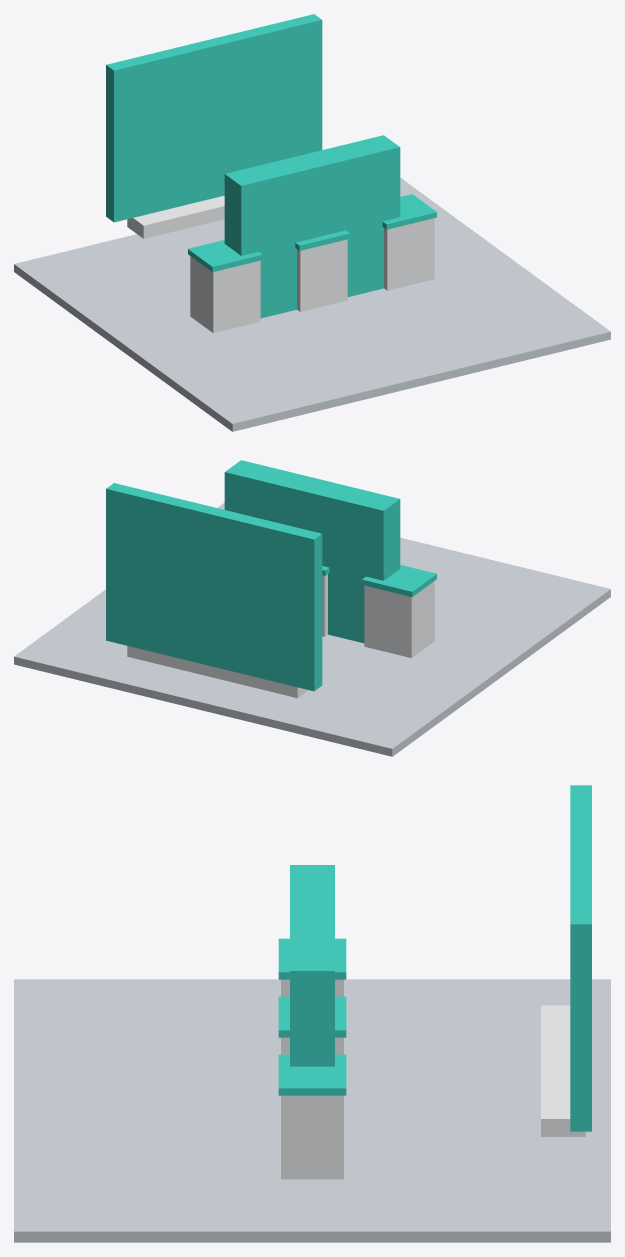
3 views of the same model, one above another, from view 1: azimuth 30°, elevation 25°; view 2: azimuth 150°, elevation 25°; view 3: azimuth 270°, elevation 25° (orthographic). The views are drawn at different scales.
Parts seen in each view (by area): view 1: Exhibition Booth Concept; view 2: Exhibition Booth Concept; view 3: Exhibition Booth Concept.
Part boxes in pixels (x1,y1,x2,y2): Exhibition Booth Concept: (14, 14, 610, 431); Exhibition Booth Concept: (14, 460, 610, 756); Exhibition Booth Concept: (14, 785, 610, 1242).
Size of the model in its own units: 6 by 2.9 by 6.
